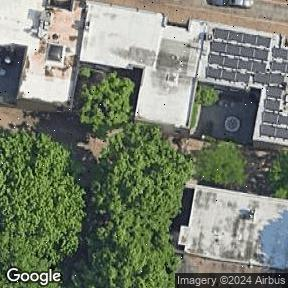vegetation: (0, 73, 247, 288), (269, 151, 288, 198), (194, 86, 219, 108)
